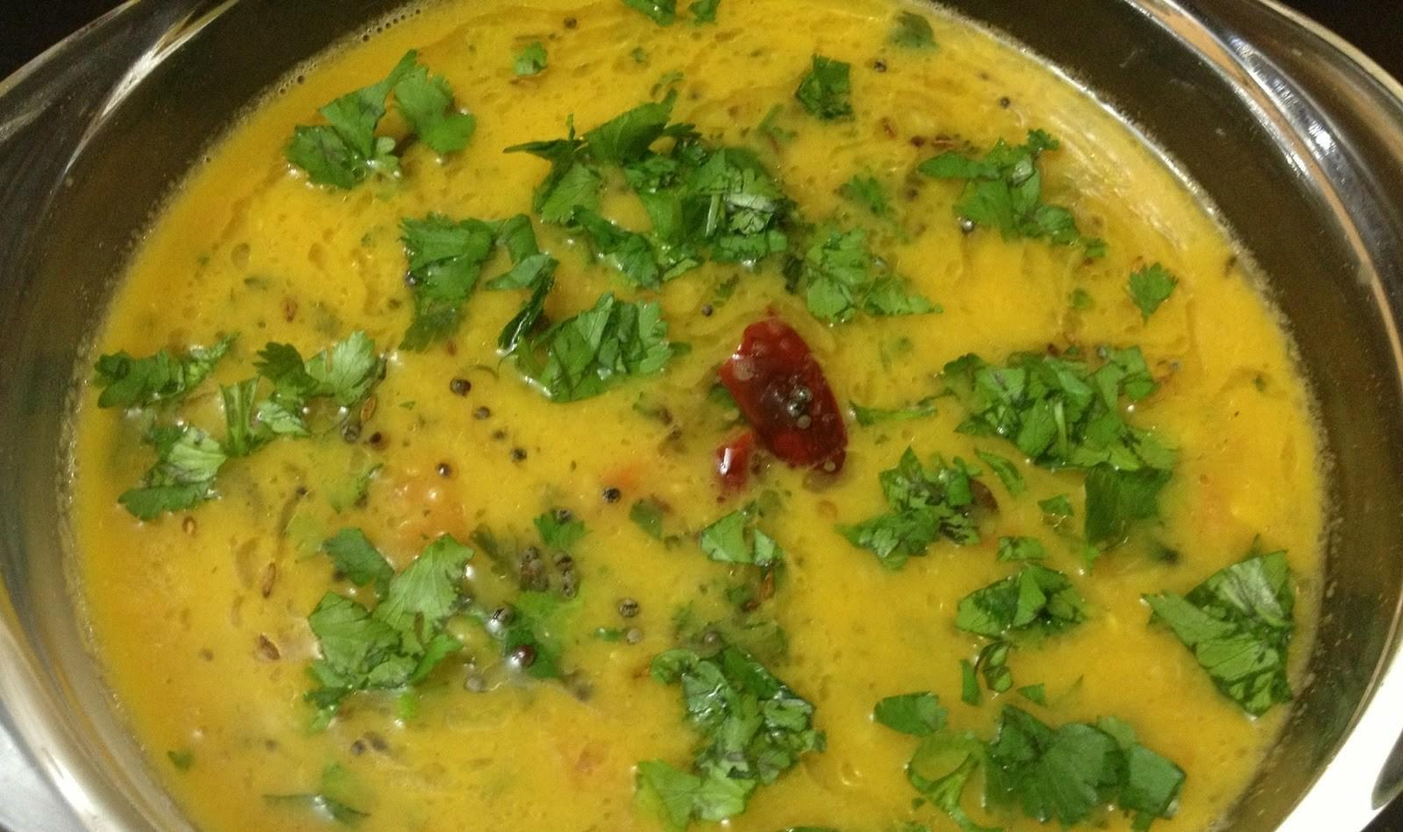Dal: (57, 0, 1322, 832)
